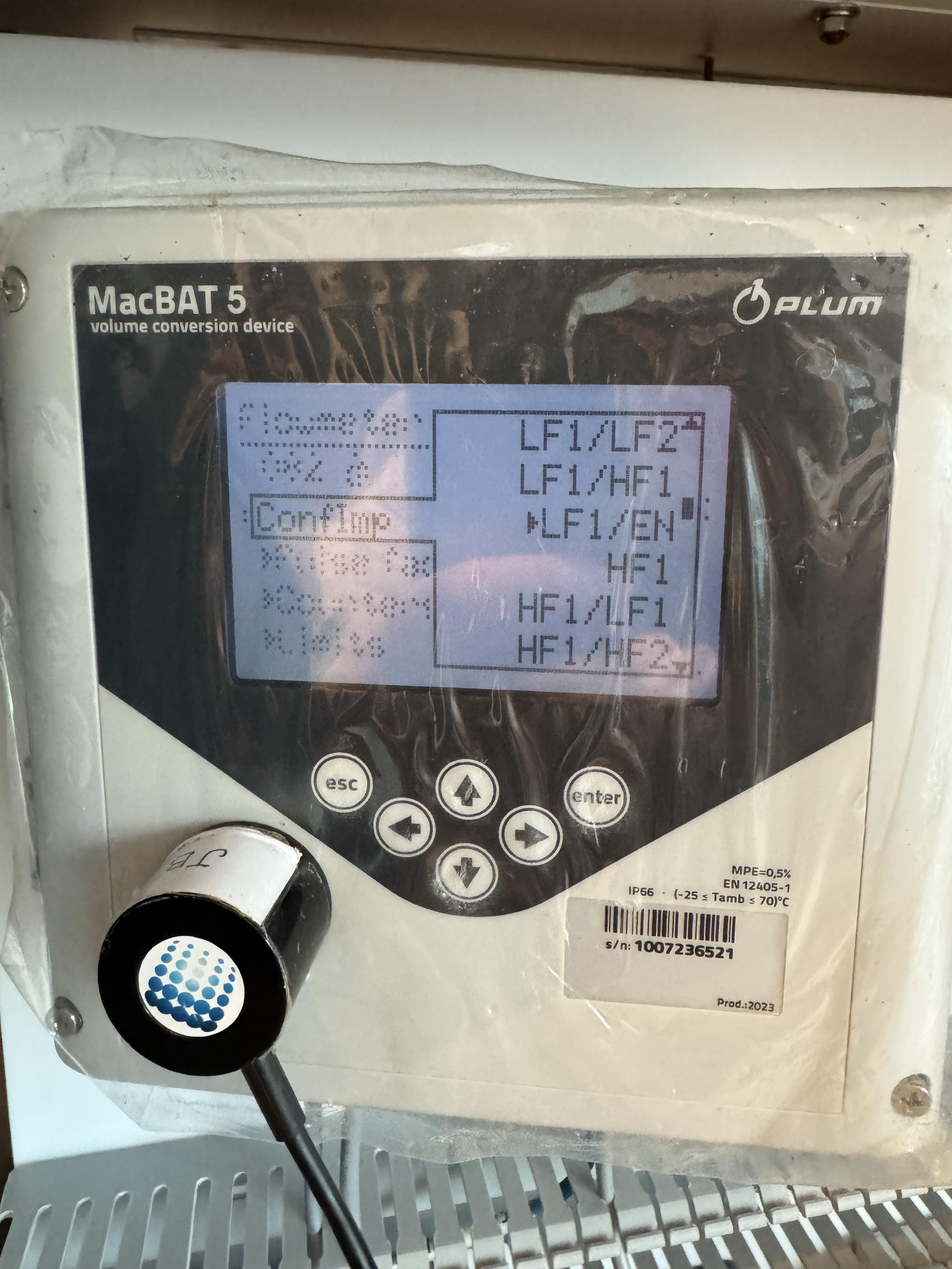digital_screen: (202, 360, 735, 705)
